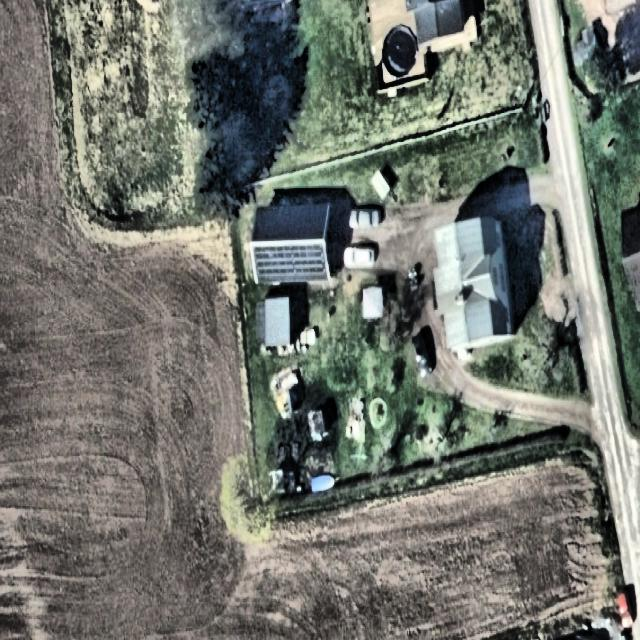roof_pv: (251, 241, 328, 286)
